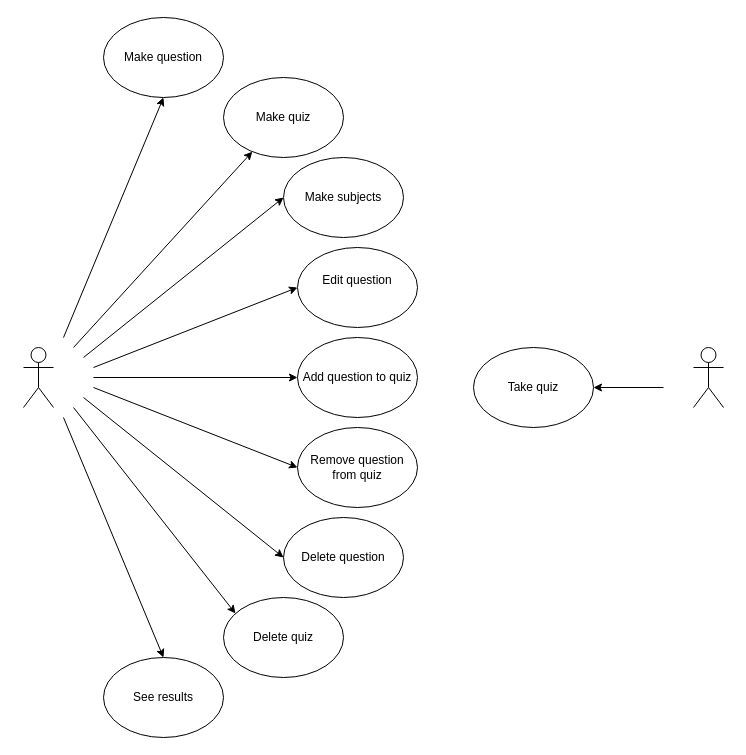
This 746x755 diagram has some shape labels left out. The centre of each missing label's shape, as x and y in pixels:
"Student" belongs at (x=708, y=377).
"Teacher" belongs at (x=38, y=377).
